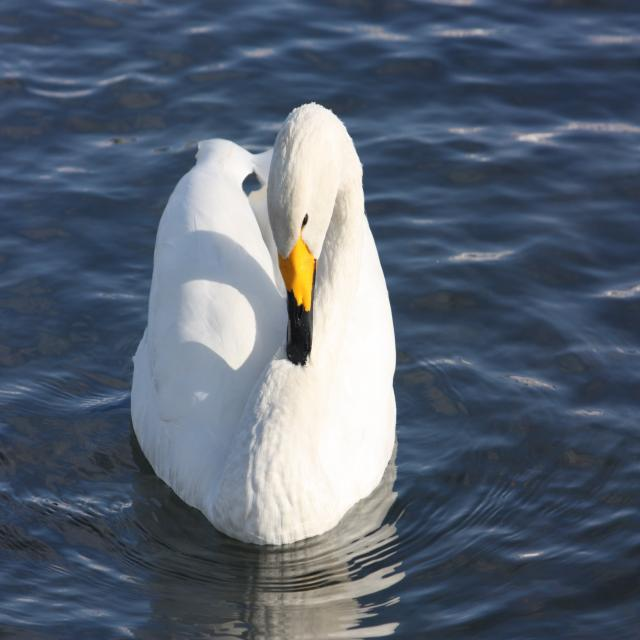bird: (111, 92, 405, 556)
